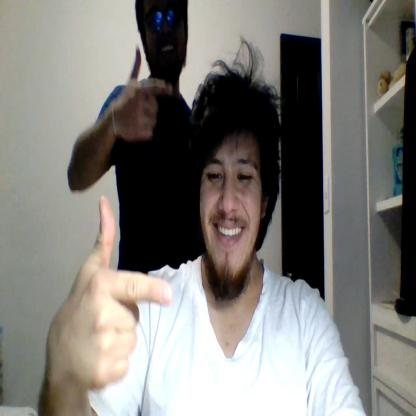G: (62, 195, 172, 390), (118, 46, 172, 140)
